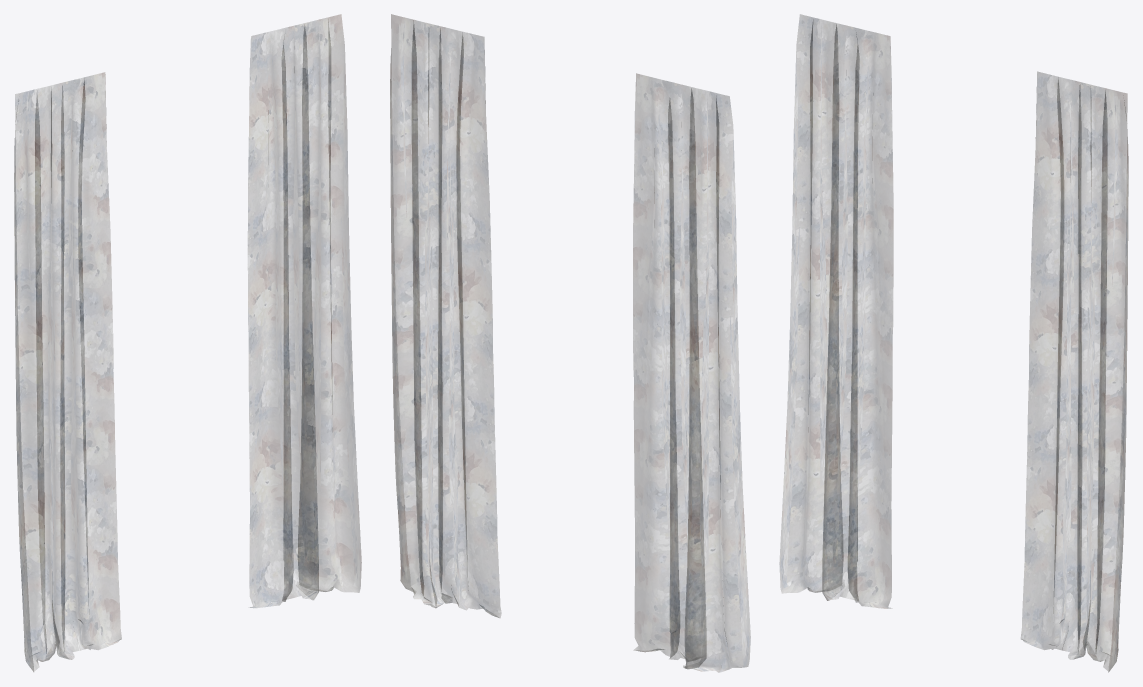
Rendered from Curtains.FBX.
The picture shows the model from 3 angles, left to right: view 1: azimuth 30°, elevation 25°; view 2: azimuth 150°, elevation 25°; view 3: azimuth 330°, elevation 25°; orthographic projection. The views are drawn at different scales.
Parts seen in each view (by area): view 1: curtain B, curtain A; view 2: curtain A, curtain B; view 3: curtain A, curtain B.
Part boxes in pixels (x1,y1,x2,y2): curtain B: (248, 14, 361, 607); curtain A: (14, 72, 121, 671); curtain A: (633, 73, 750, 672); curtain B: (390, 14, 501, 617); curtain A: (779, 14, 893, 608); curtain B: (1021, 71, 1128, 672).
Size of the model in its own units: 224 by 30.05 by 365.
Materials: 1 (1 with a texture image).
